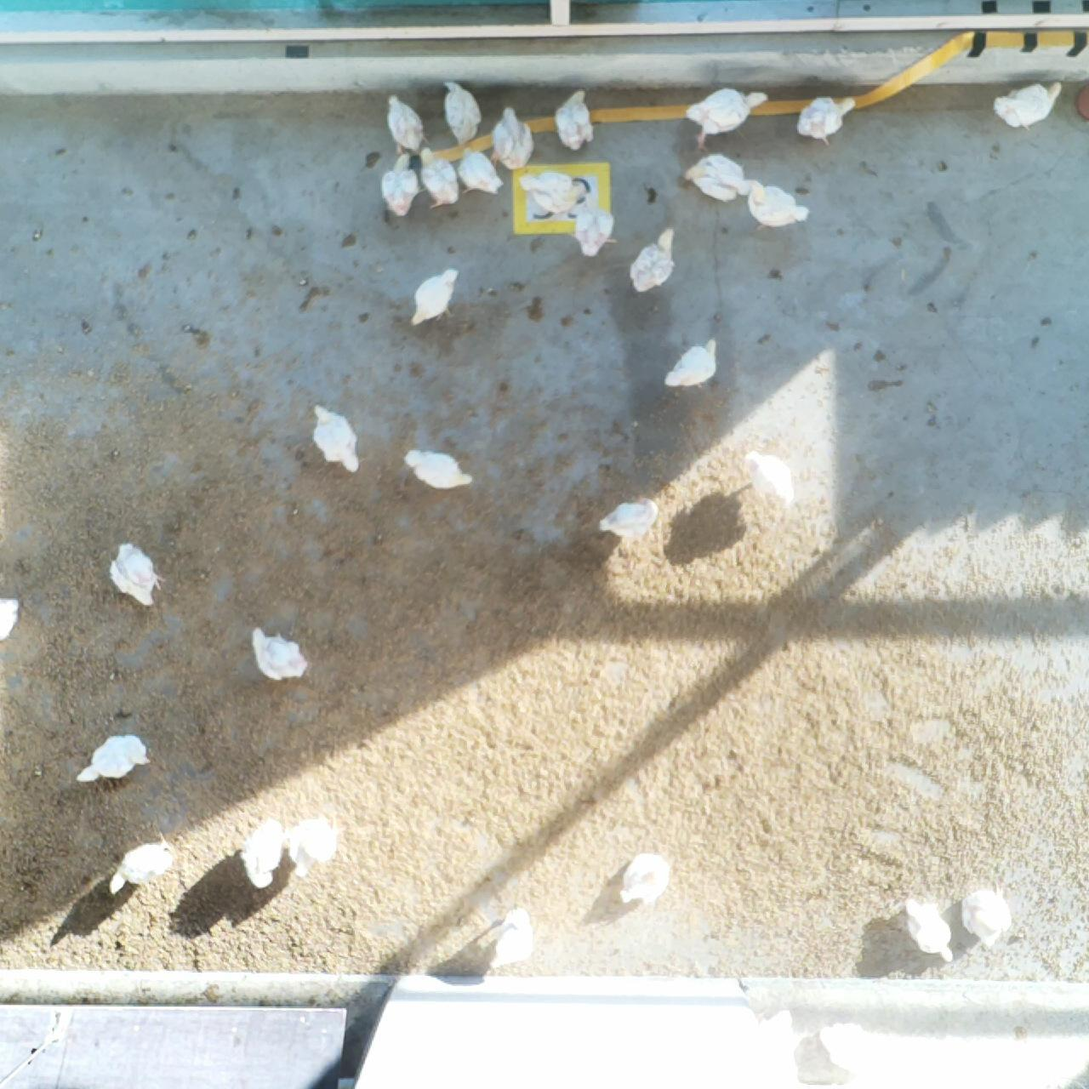chicken: (683, 85, 771, 156), (104, 829, 179, 898), (284, 805, 345, 887), (72, 731, 156, 789), (989, 76, 1068, 133), (955, 875, 1014, 951), (106, 539, 169, 610), (677, 149, 758, 203), (236, 812, 290, 892), (306, 401, 362, 478), (901, 890, 957, 966), (627, 220, 683, 296), (744, 175, 814, 234), (485, 904, 542, 973), (616, 847, 677, 910), (793, 91, 859, 148), (594, 490, 662, 545), (248, 624, 311, 683), (571, 187, 619, 264), (406, 265, 461, 332), (402, 446, 477, 495), (515, 169, 589, 218), (739, 446, 797, 507), (378, 150, 428, 220), (662, 333, 721, 392), (382, 88, 431, 158), (439, 78, 485, 151), (487, 104, 536, 171), (552, 85, 598, 154), (416, 144, 462, 211), (453, 142, 507, 199), (0, 594, 21, 643)
